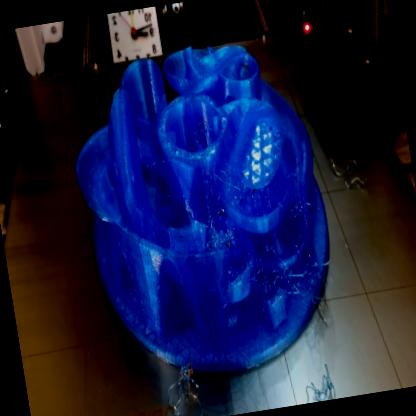fail: (231, 198, 327, 314)
